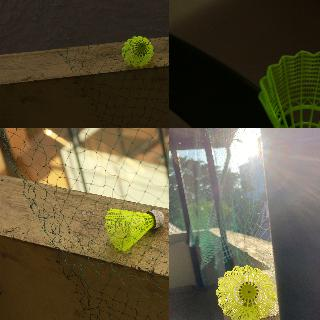shuttlecock: (258, 50, 319, 127), (216, 265, 277, 319), (104, 208, 164, 250), (121, 36, 153, 66)
